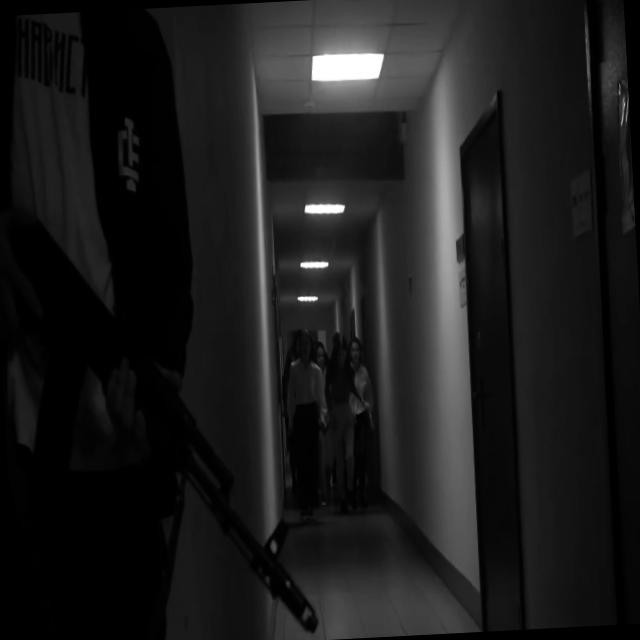gun: (0, 177, 322, 640)
person: (290, 328, 318, 381), (330, 336, 353, 396), (312, 332, 334, 382), (351, 332, 362, 377)
